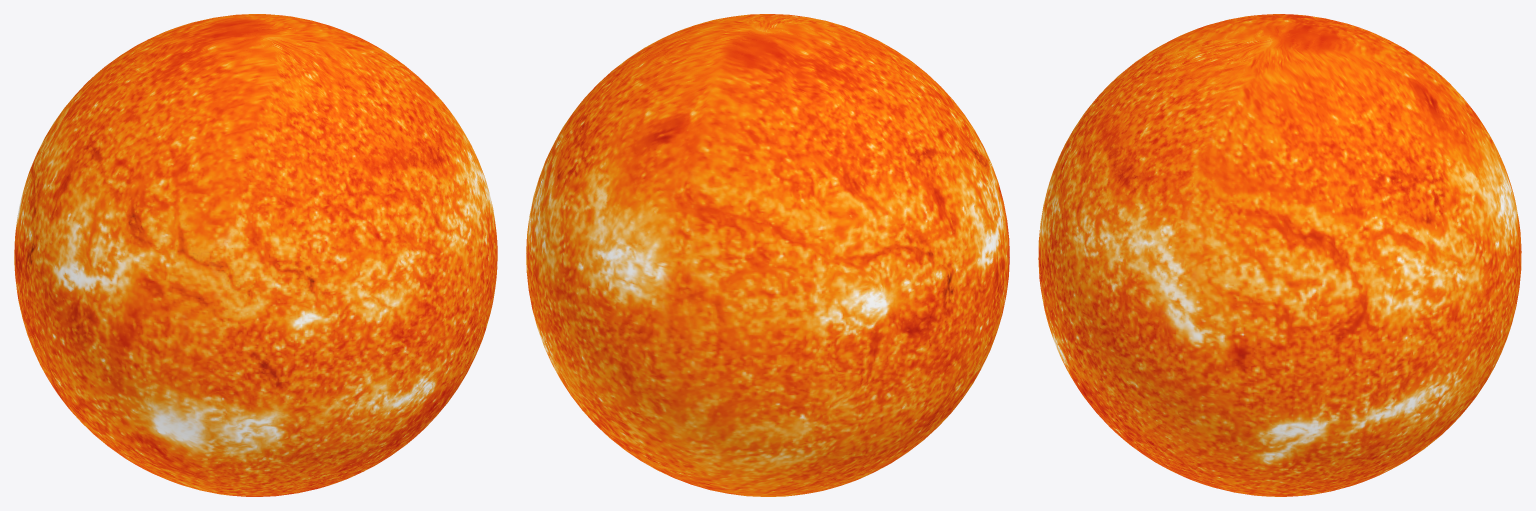
Rendered from sun.gltf.
3 renders of one model, left to right at view 1: azimuth 30°, elevation 25°; view 2: azimuth 150°, elevation 25°; view 3: azimuth 270°, elevation 25°, orthographic.
Visible parts, largest first — view 1: Sun; view 2: Sun; view 3: Sun.
Part boxes in pixels (x1,y1,x2,y2): Sun: (14, 14, 497, 496); Sun: (526, 14, 1009, 496); Sun: (1038, 14, 1521, 496).
Bounding box in the file's own units: 1.39 × 1.39 × 1.39.
1 material, 1 textured.
